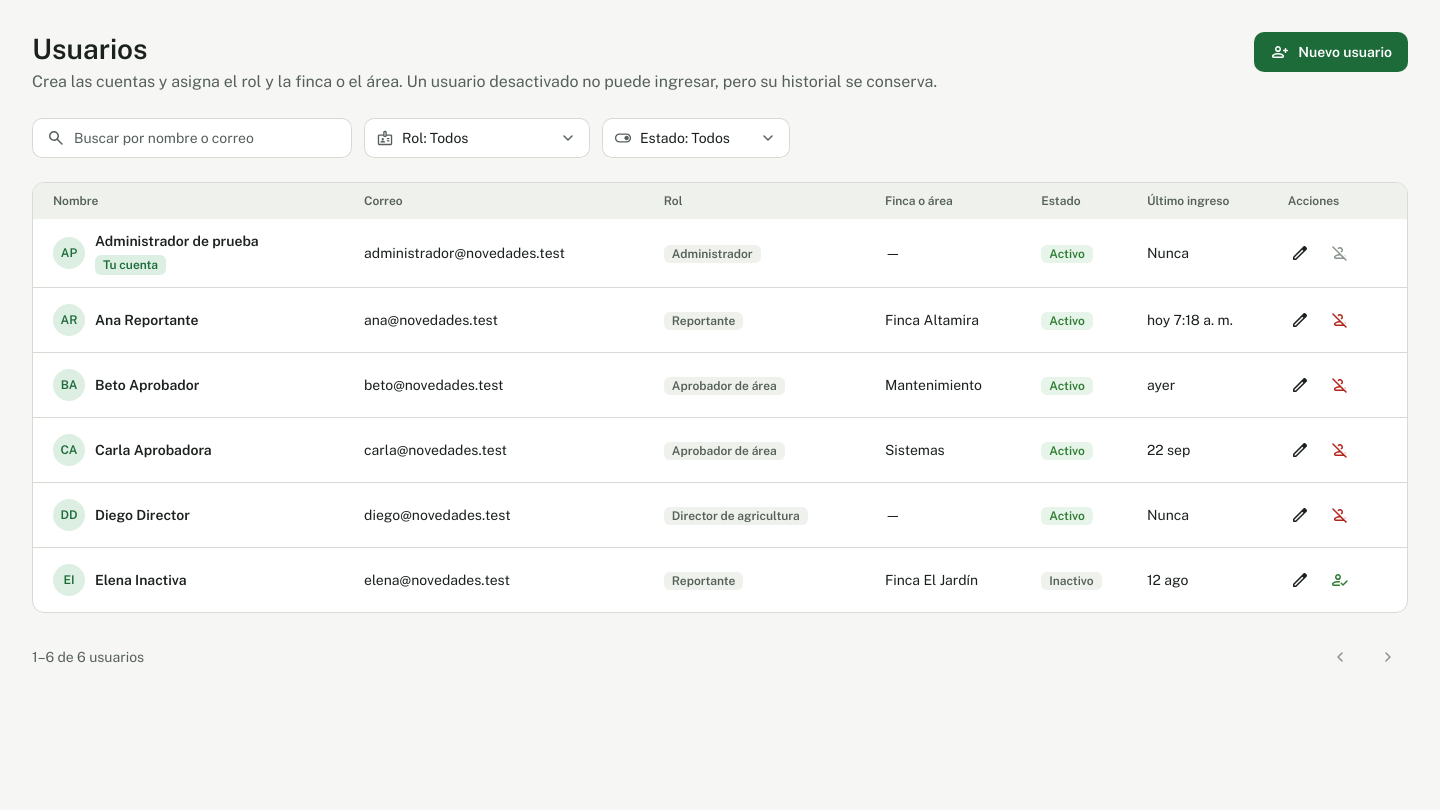
Test: Pantalla 28 · Usuarios (RF-03 / CU-03 2) › RF-03: si nada coincide, lo dice
The width and height of the screenshot is (1440, 810).
Expected: the table is shown, [33, 183, 1407, 612]
Type "zzz" into the search field labelled "Buscar por nombre o correo" at (206, 138), box [74, 128, 338, 148]
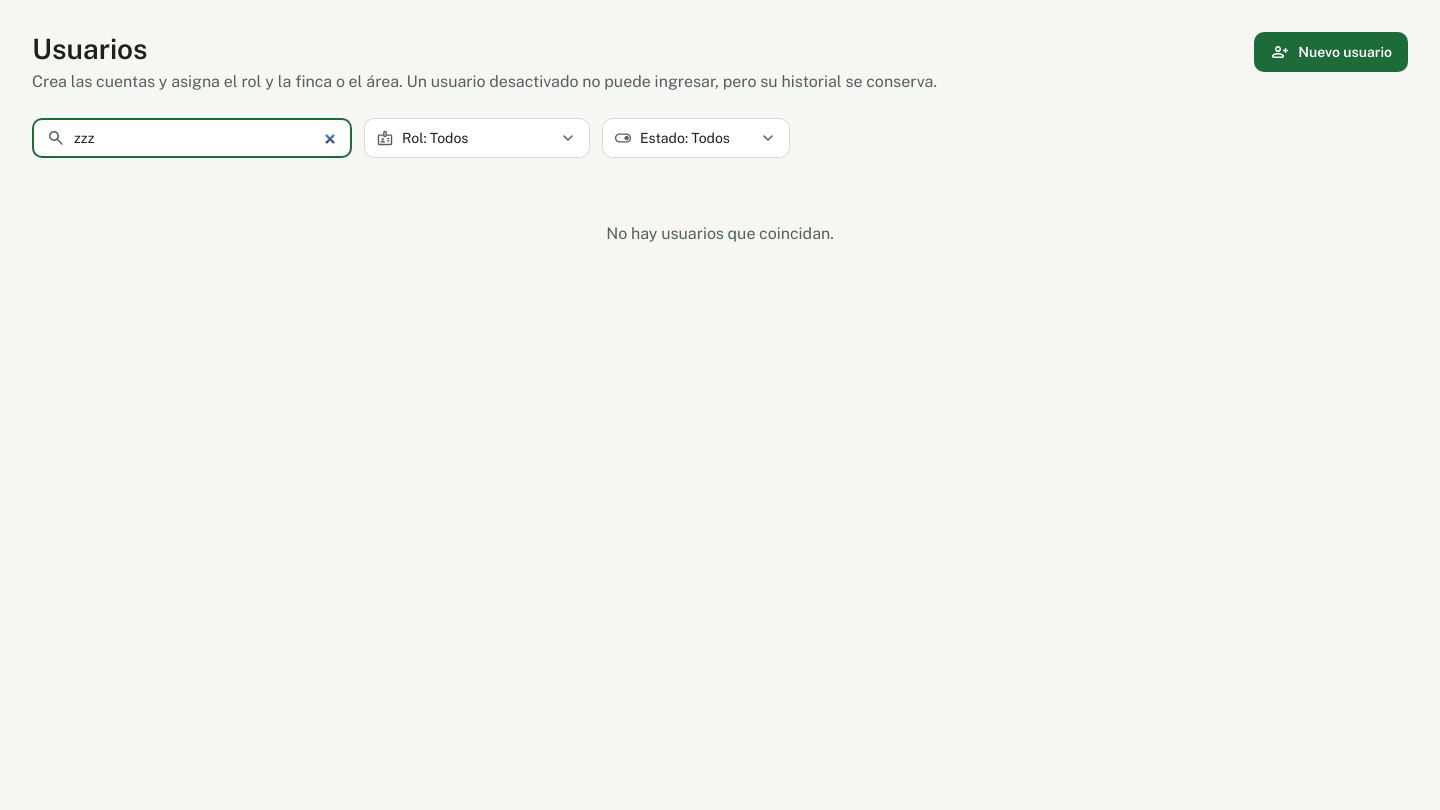
Expected: the text "No hay usuarios que coincidan." is shown, [606, 224, 834, 243]
Expected: the table is gone
